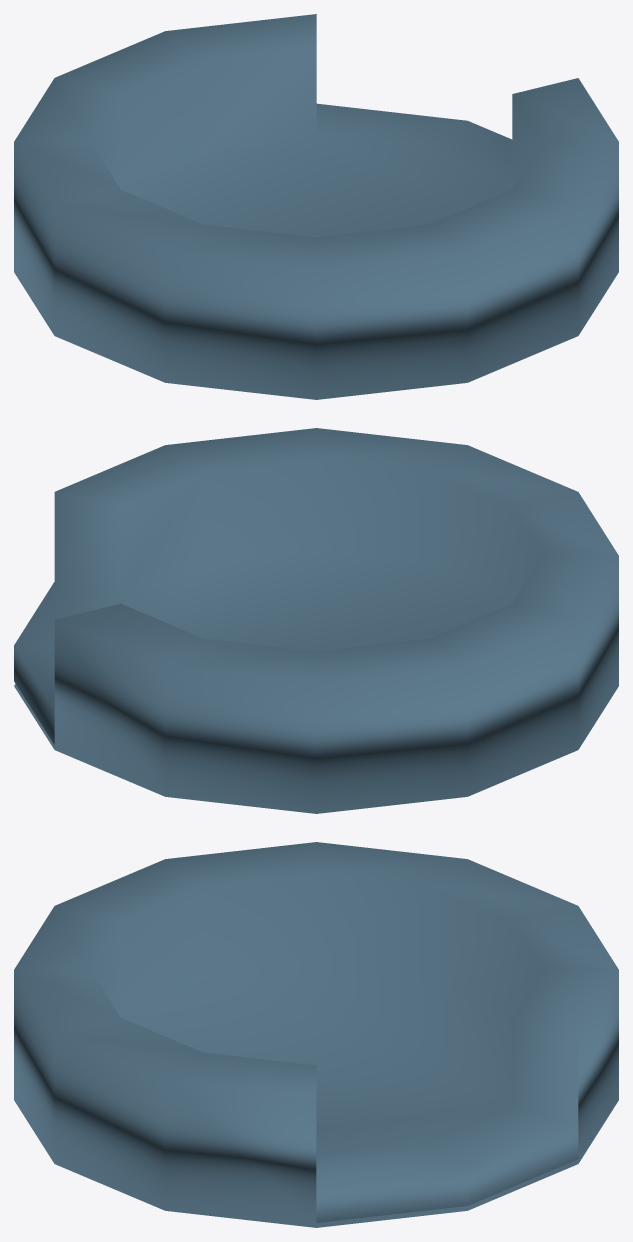
The model's file is Niche.fbx.
3 renders of one model, top to bottom at view 1: azimuth 30°, elevation 25°; view 2: azimuth 150°, elevation 25°; view 3: azimuth 270°, elevation 25°, orthographic.
Visible parts, largest first — view 1: Cylinder.010; view 2: Cylinder.010; view 3: Cylinder.010.
Boxes of the visible parts, x1,y1,x2,y2 form: Cylinder.010: (14,14,618,399); Cylinder.010: (14,428,618,813); Cylinder.010: (14,842,618,1227).
Size of the model in its own units: 200 by 47.52 by 200.
